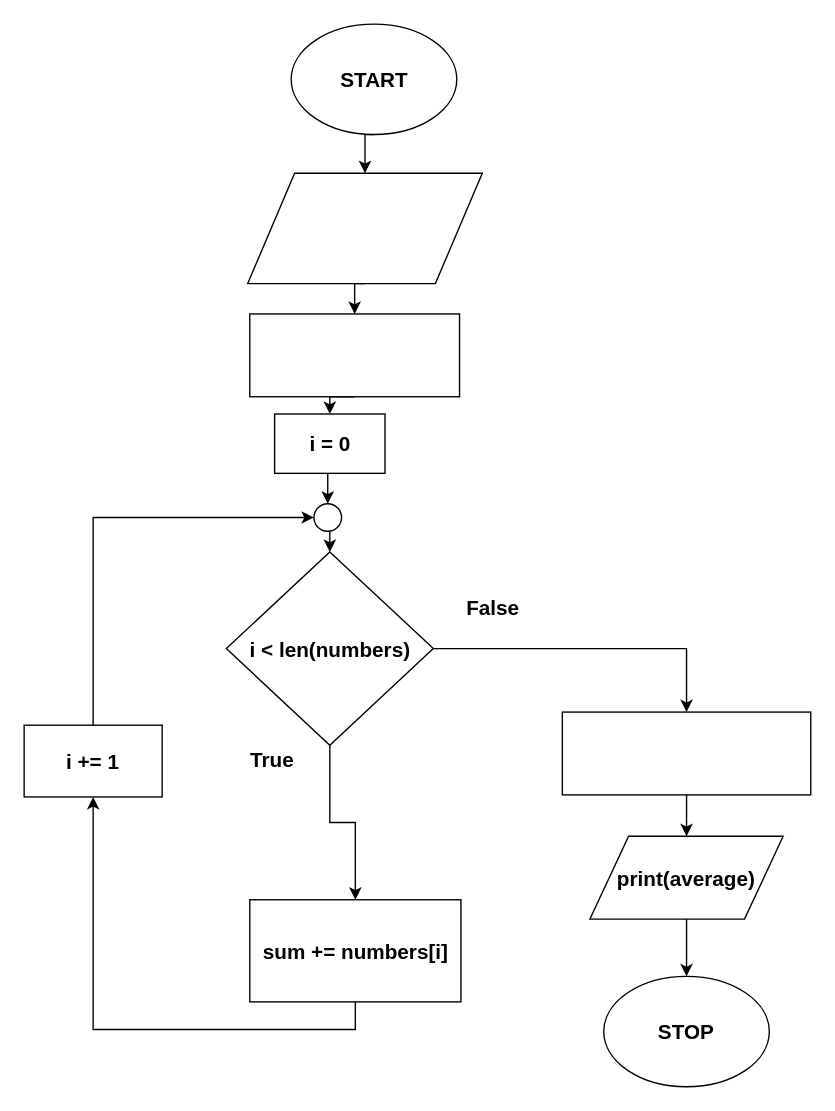
Some shapes in this 835 by 1111 pixel diagram are drawn without their labels. Here are the shapes that lost their labels. From the top down, the box of each, then its label:
(246, 172, 482, 284): input: numbers[]
(248, 313, 460, 397): sum = 0
(561, 711, 811, 795): sum / len(numbers)
